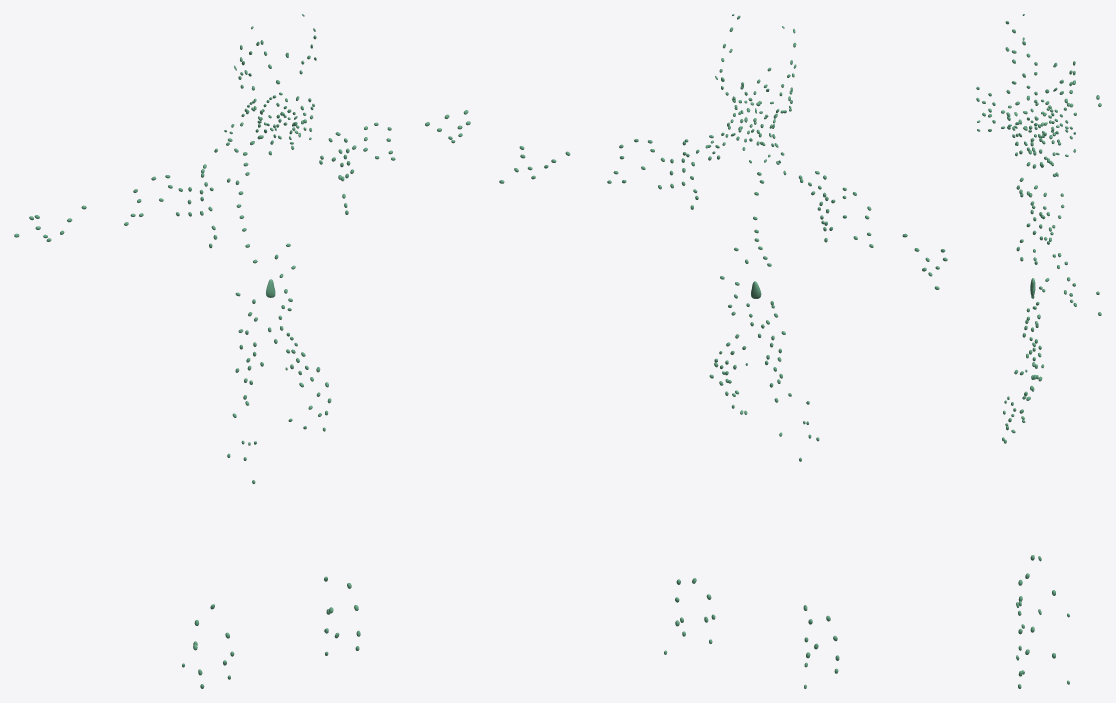
File: Thoratic_Lymph_Node.fbx
3 renders of one model, left to right at view 1: azimuth 30°, elevation 25°; view 2: azimuth 150°, elevation 25°; view 3: azimuth 270°, elevation 25°, orthographic. The views are drawn at different scales.
Visible parts, largest first — view 1: Thoratic_Lymph_Node; view 2: Thoratic_Lymph_Node; view 3: Thoratic_Lymph_Node.
Part boxes in pixels (left/top/right/bottom): Thoratic_Lymph_Node: left=14, top=14, right=470, bottom=688; Thoratic_Lymph_Node: left=499, top=14, right=947, bottom=688; Thoratic_Lymph_Node: left=976, top=14, right=1101, bottom=688.
Size of the model in its own units: 92.54 by 128 by 23.2.
